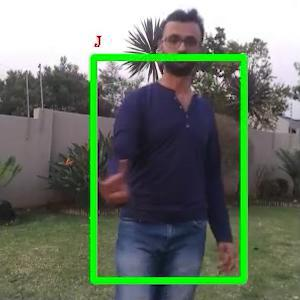takeoff-hand: (82, 150, 134, 205)
